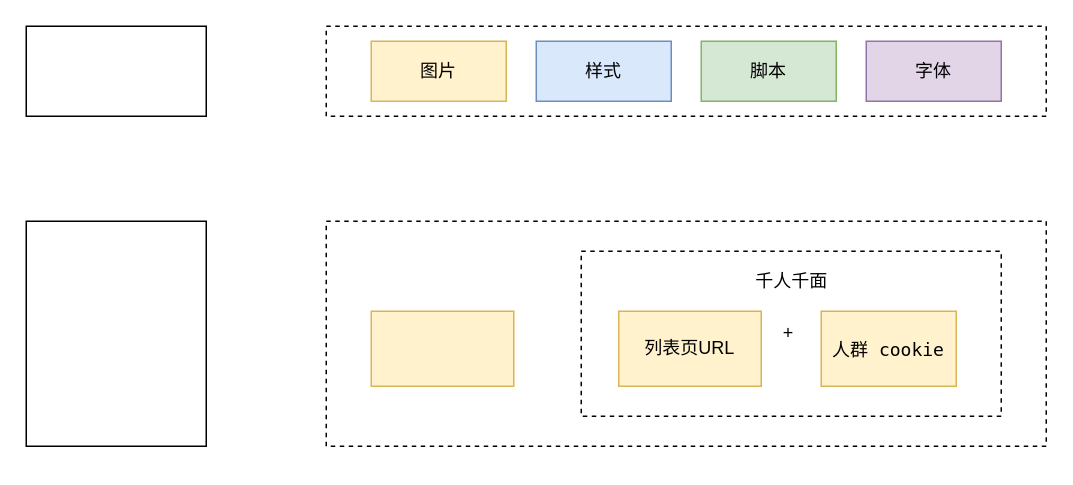
Some shapes in this 1073 by 485 pixel diagram are drawn without their labels. The shapes that lost their labels are listed below. From the top down, each one's box as (x1, y1, x2, y2) in pixels, then its label:
(25, 25, 206, 116): 静态资源
(25, 220, 206, 446): 动态数据
(370, 310, 514, 386): 详情页URL
